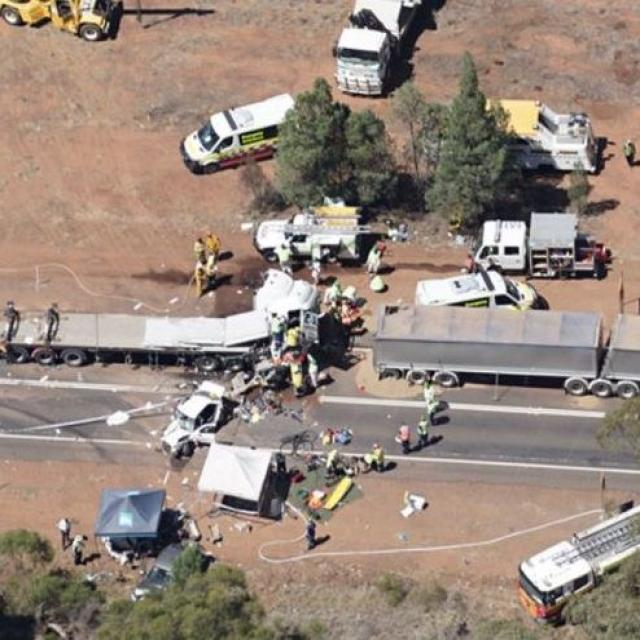traffic_incident: (76, 262, 384, 410), (140, 370, 234, 459)
